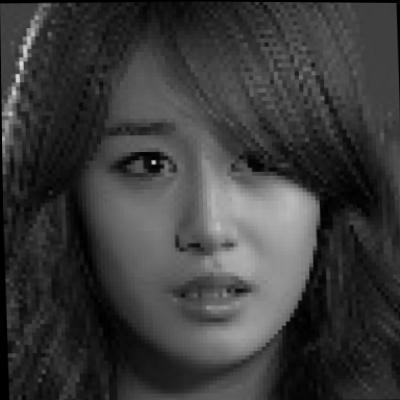sad: (80, 29, 318, 359)
